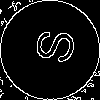S: (25, 25, 76, 66)
